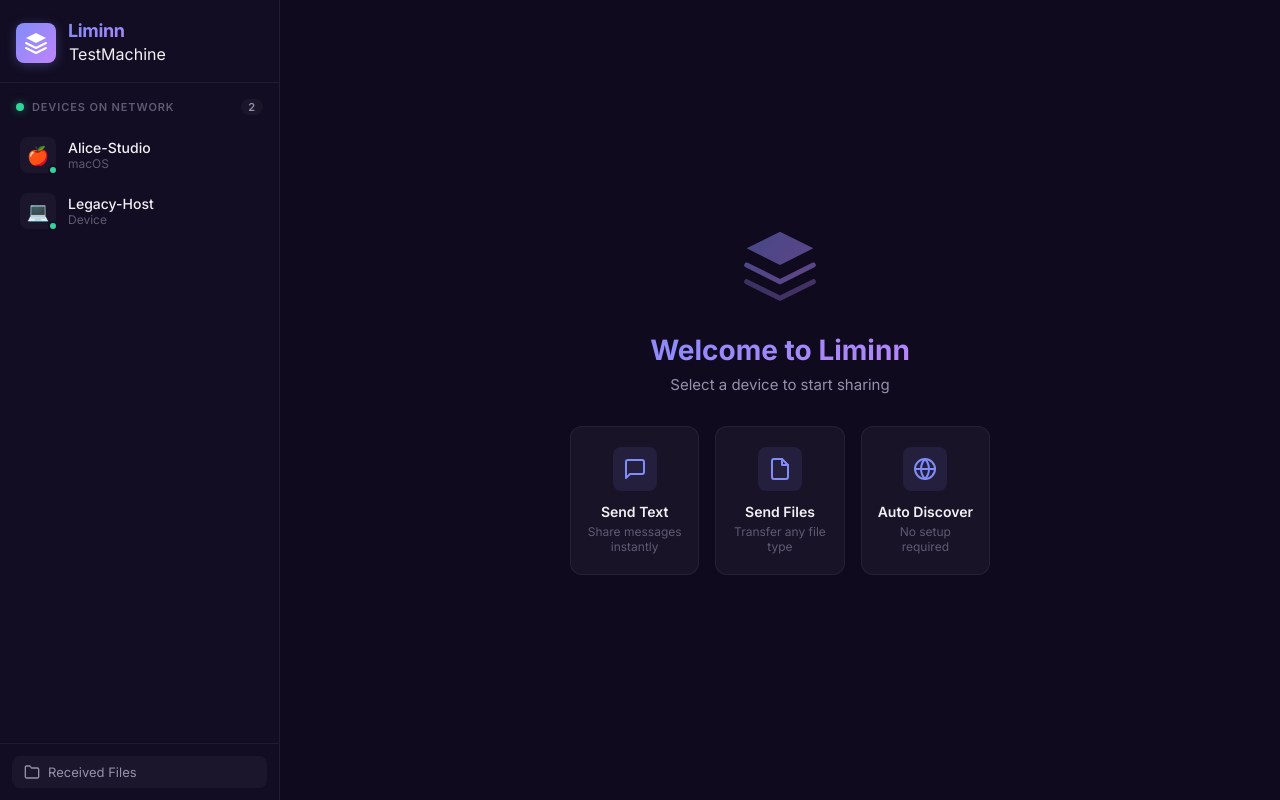
App peer-keyed message routing › falls back to a synthetic-<name> key when the sender did not supply fromId (legacy peer)
The width and height of the screenshot is (1280, 800).
Expected: the button "TestMachine" is shown, x1=64 y1=42 x2=171 y2=66
Click the text "Legacy-Host": (111, 204) x1=68 y1=195 x2=154 y2=212
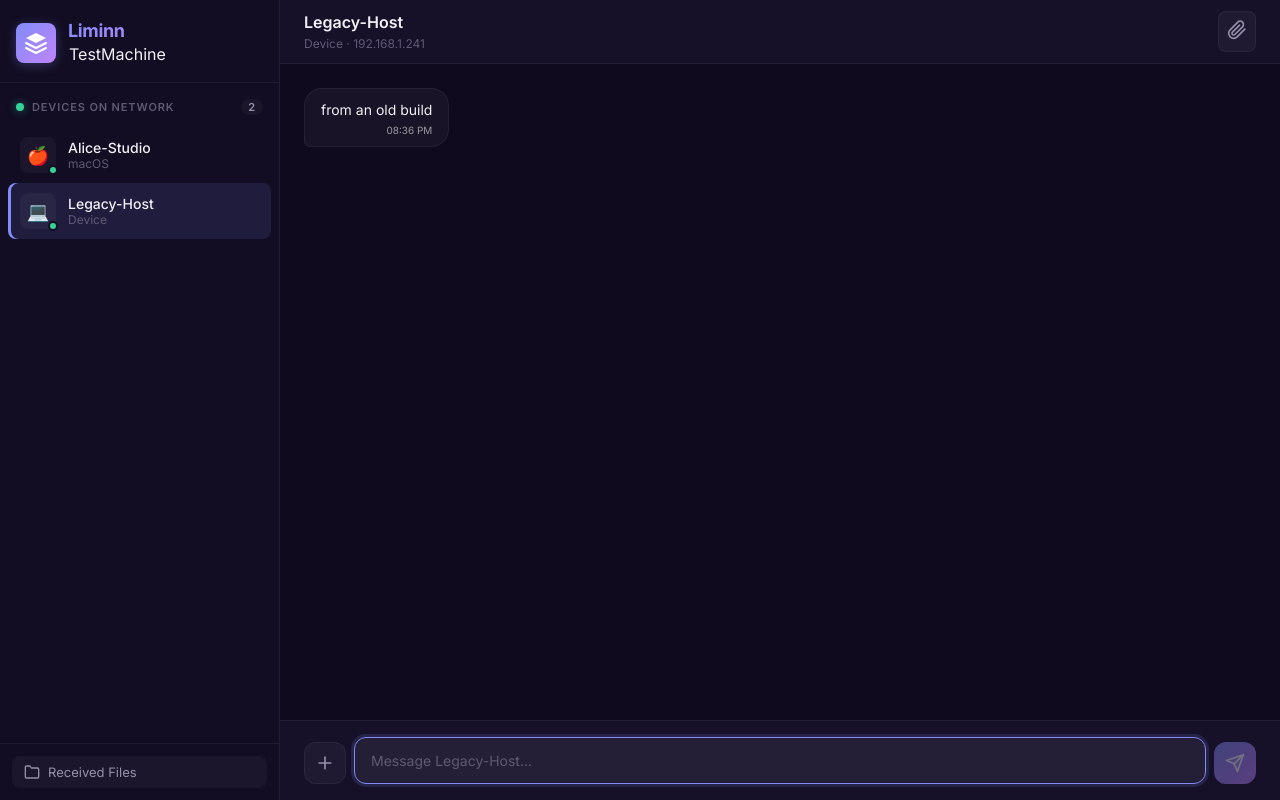
Expected: the text "from an old build" is shown, x1=321 y1=99 x2=432 y2=120
